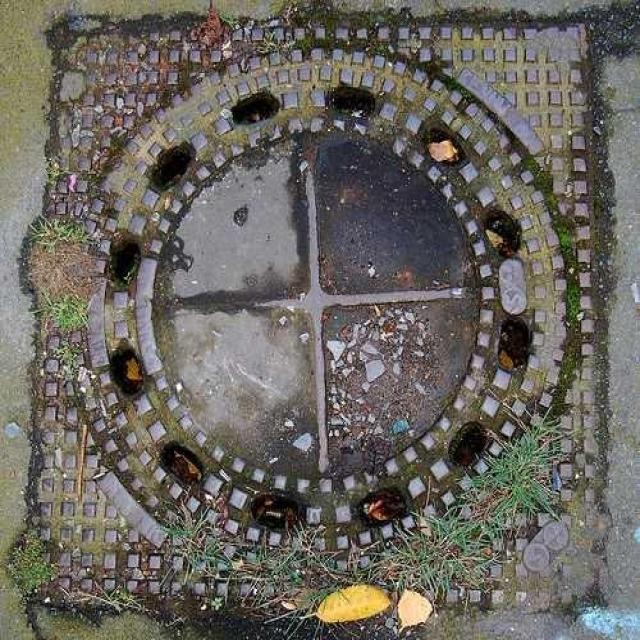manhole: (30, 12, 605, 612)
